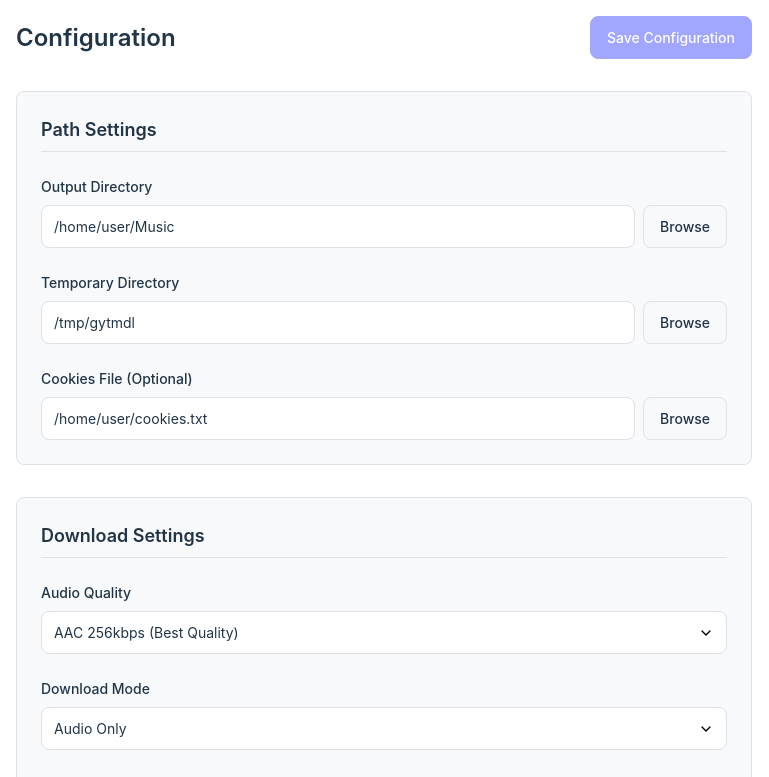
Test: ConfigEditor Component › resets changes when reset button is clicked
This screenshot has width=769, height=777.
# Make a change
Replace the text in the field showing "/home/user/Music" with "/changed/path". click: (338, 226)
box: [41,205,635,248]
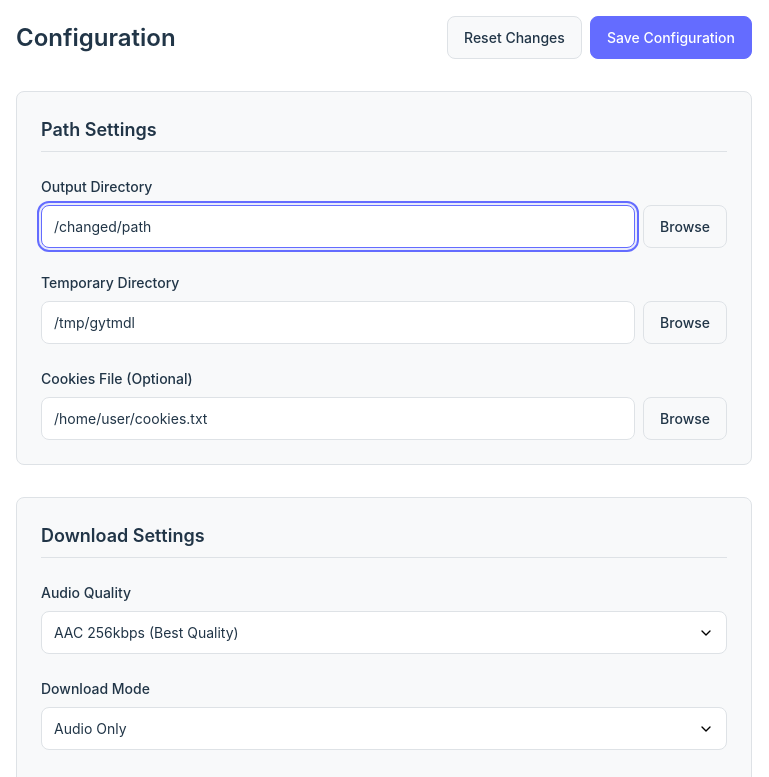
# Reset changes
Click the button "Reset Changes". click: (514, 38)
box: [447,16,582,59]
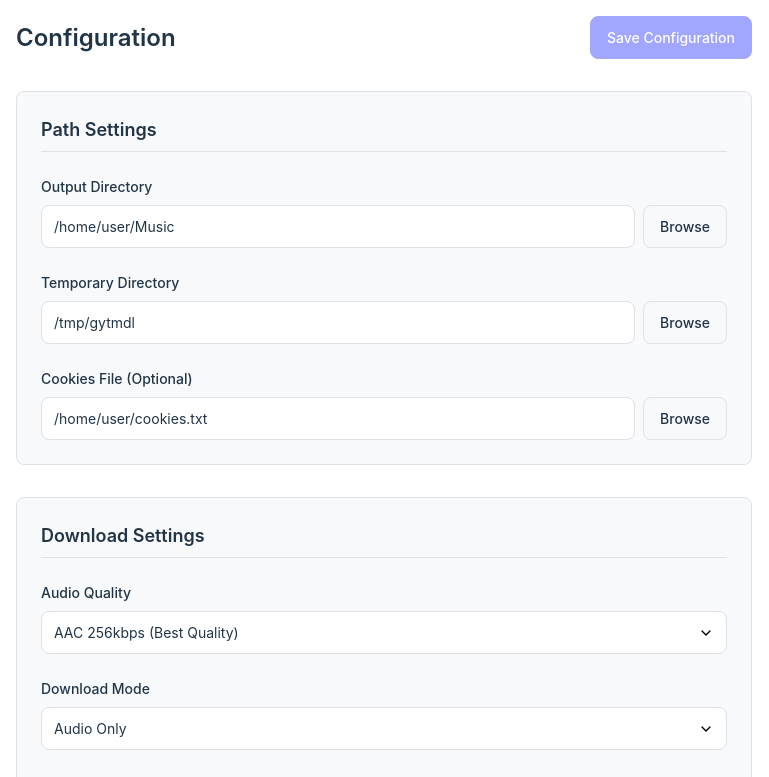
Expected: the field showing "/home/user/Music" is shown, [41,205,635,248]
